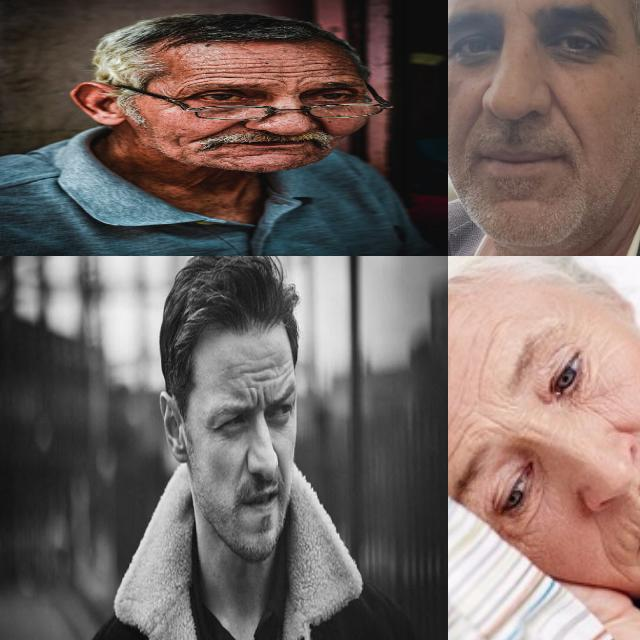chin: (489, 188, 517, 212), (224, 152, 274, 162), (275, 148, 306, 158)
forehead: (448, 312, 499, 384), (241, 361, 276, 385), (448, 415, 463, 467), (278, 64, 316, 84), (234, 64, 274, 82), (320, 62, 355, 82), (218, 54, 278, 64), (188, 65, 225, 81), (281, 358, 293, 385)
frown_line: (479, 409, 517, 435), (253, 386, 266, 414)
gummy_smile: (550, 92, 584, 140), (460, 98, 482, 142), (194, 122, 246, 136), (238, 448, 248, 484)
masseter: (165, 134, 188, 149)
sad_smile: (599, 551, 635, 587)
smoker_lines: (607, 509, 640, 551)
